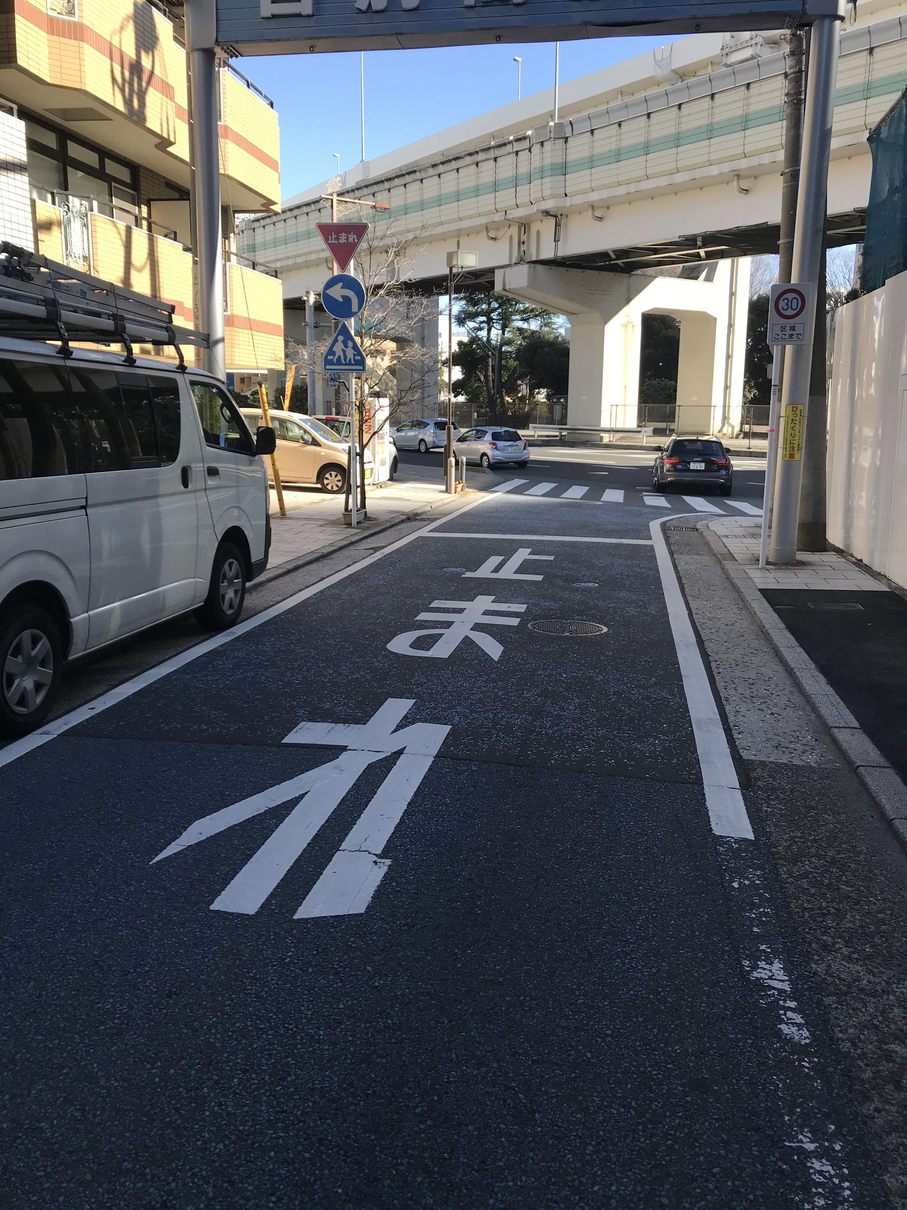stop_sign: (314, 218, 369, 273)
